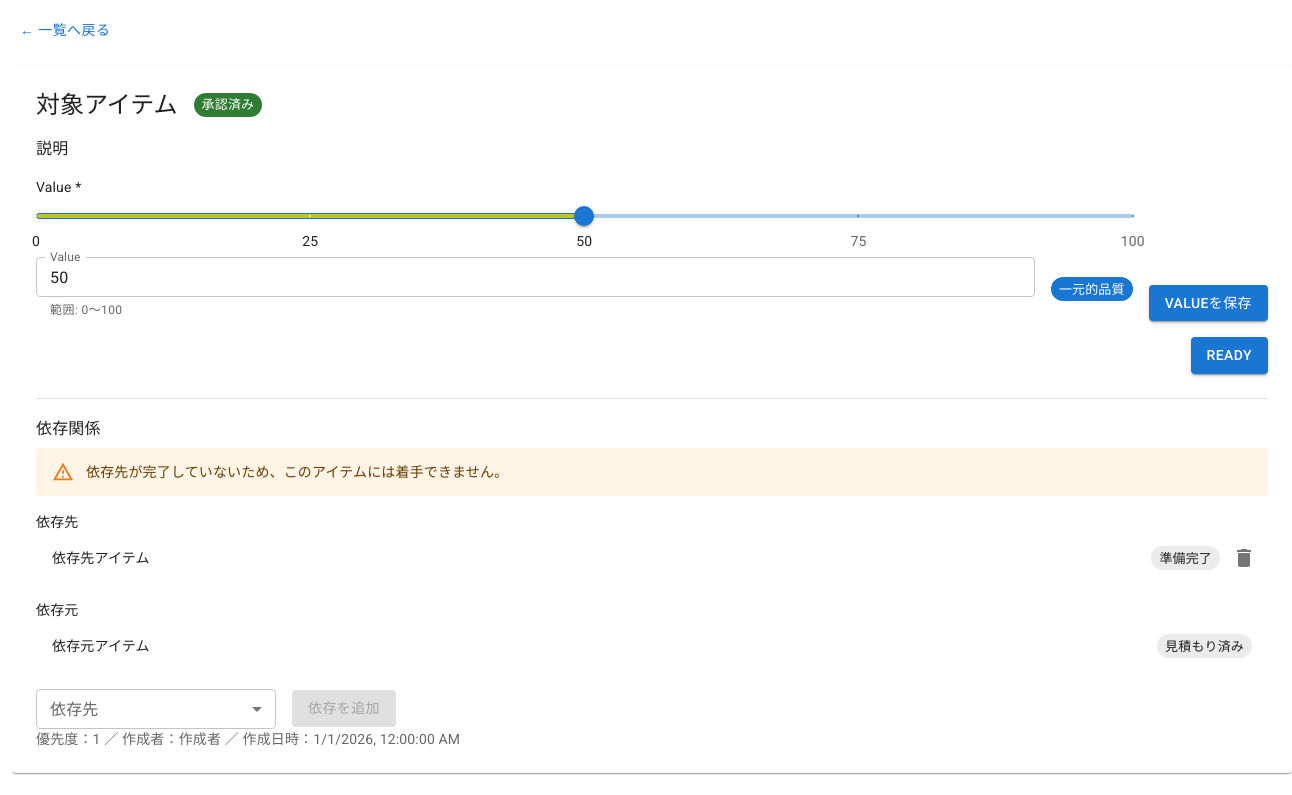
Test: BacklogItemDetail 依存関係セクション（Issue #542） › 依存を削除したとき、依存関係が再読み込みされ一覧から消える
What coordinates should you click on to do the following:
click the button with test id "remove-dependency-item-200"
I would click on:
 (1244, 558)
Its box is left=1224, top=538, right=1264, bottom=578.
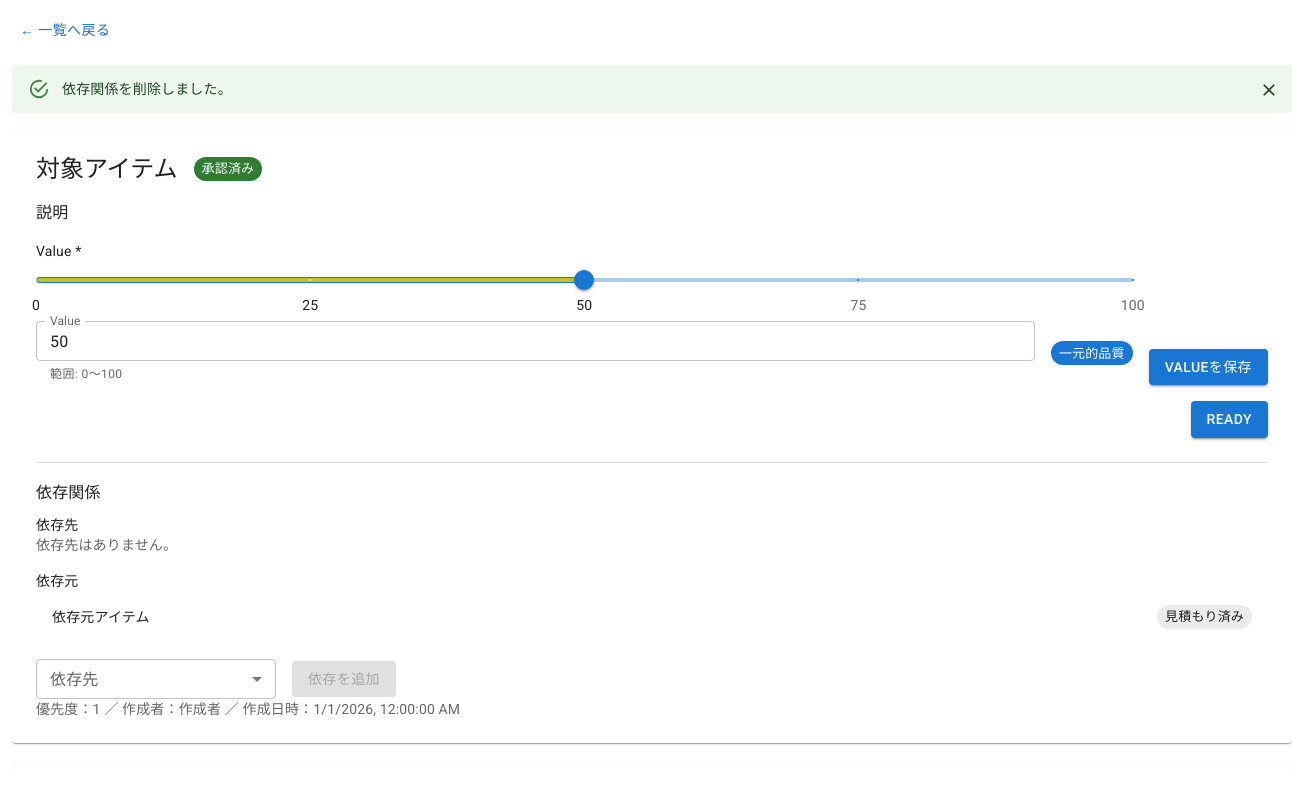
Result: the text "依存先アイテム" is gone
